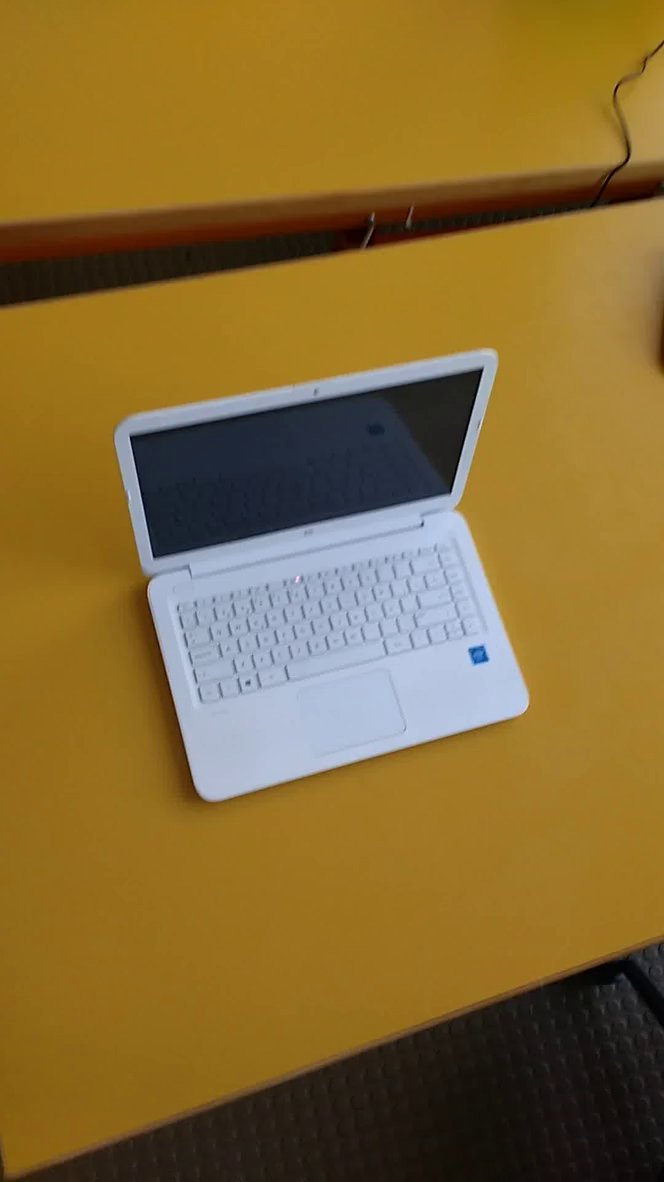laptop: (112, 341, 543, 809)
